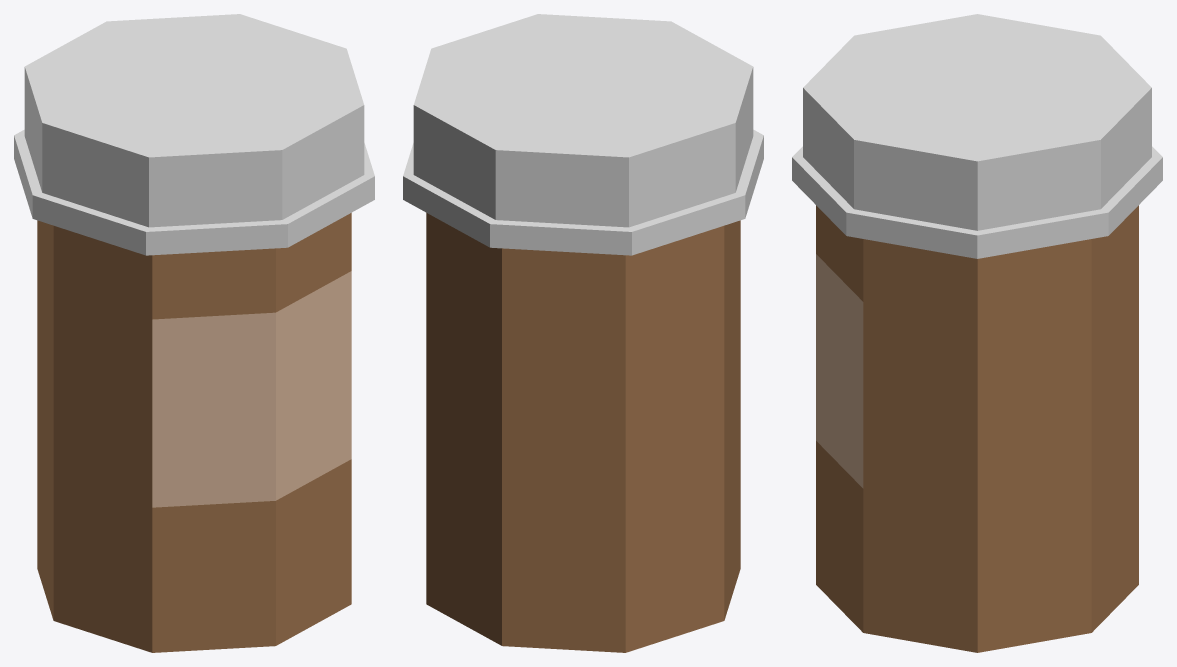
File: MedicalKit_03.fbx
3 renders of one model, left to right at view 1: azimuth 30°, elevation 25°; view 2: azimuth 150°, elevation 25°; view 3: azimuth 270°, elevation 25°, orthographic.
Parts seen in each view (by area): view 1: MedicalKit_03; view 2: MedicalKit_03; view 3: MedicalKit_03.
Part boxes in pixels (box(x1,y1,x2,y2)): MedicalKit_03: box(14, 14, 374, 652); MedicalKit_03: box(403, 14, 763, 652); MedicalKit_03: box(792, 14, 1162, 652).
Bounding box in the file's own units: 5.57 × 8.23 × 5.57.
